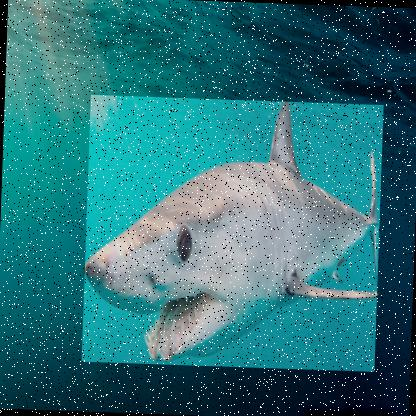mako-shark: (81, 94, 384, 372)
